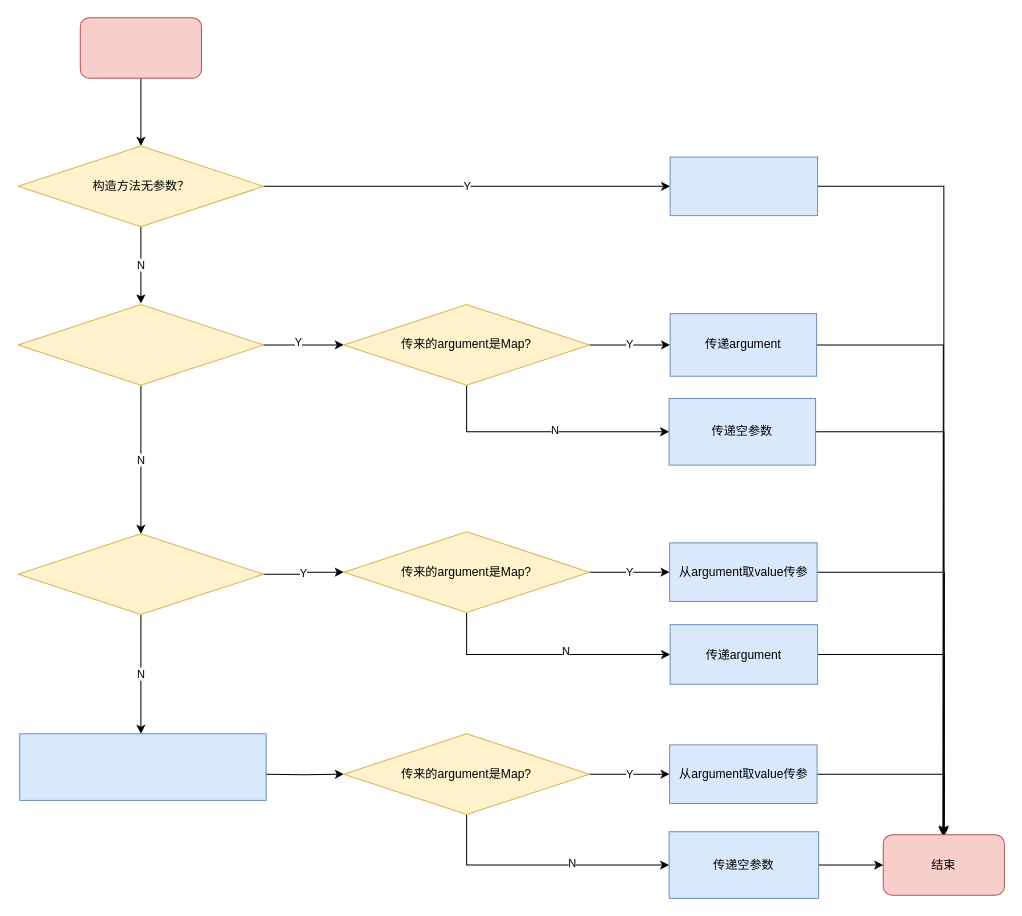
Image size: 1022x916. Some labels were removed from this diagram. The centre of each missing label's shape, as x and y in pixels:
"开始" goes at [140,47].
"构造方法只有一个Map参数？" goes at [140,344].
"构造方法只有一个非Map参数？" goes at [140,574].
"构造方法有多个参数" goes at [142,766].
"生成无参对象" goes at [743,186].
